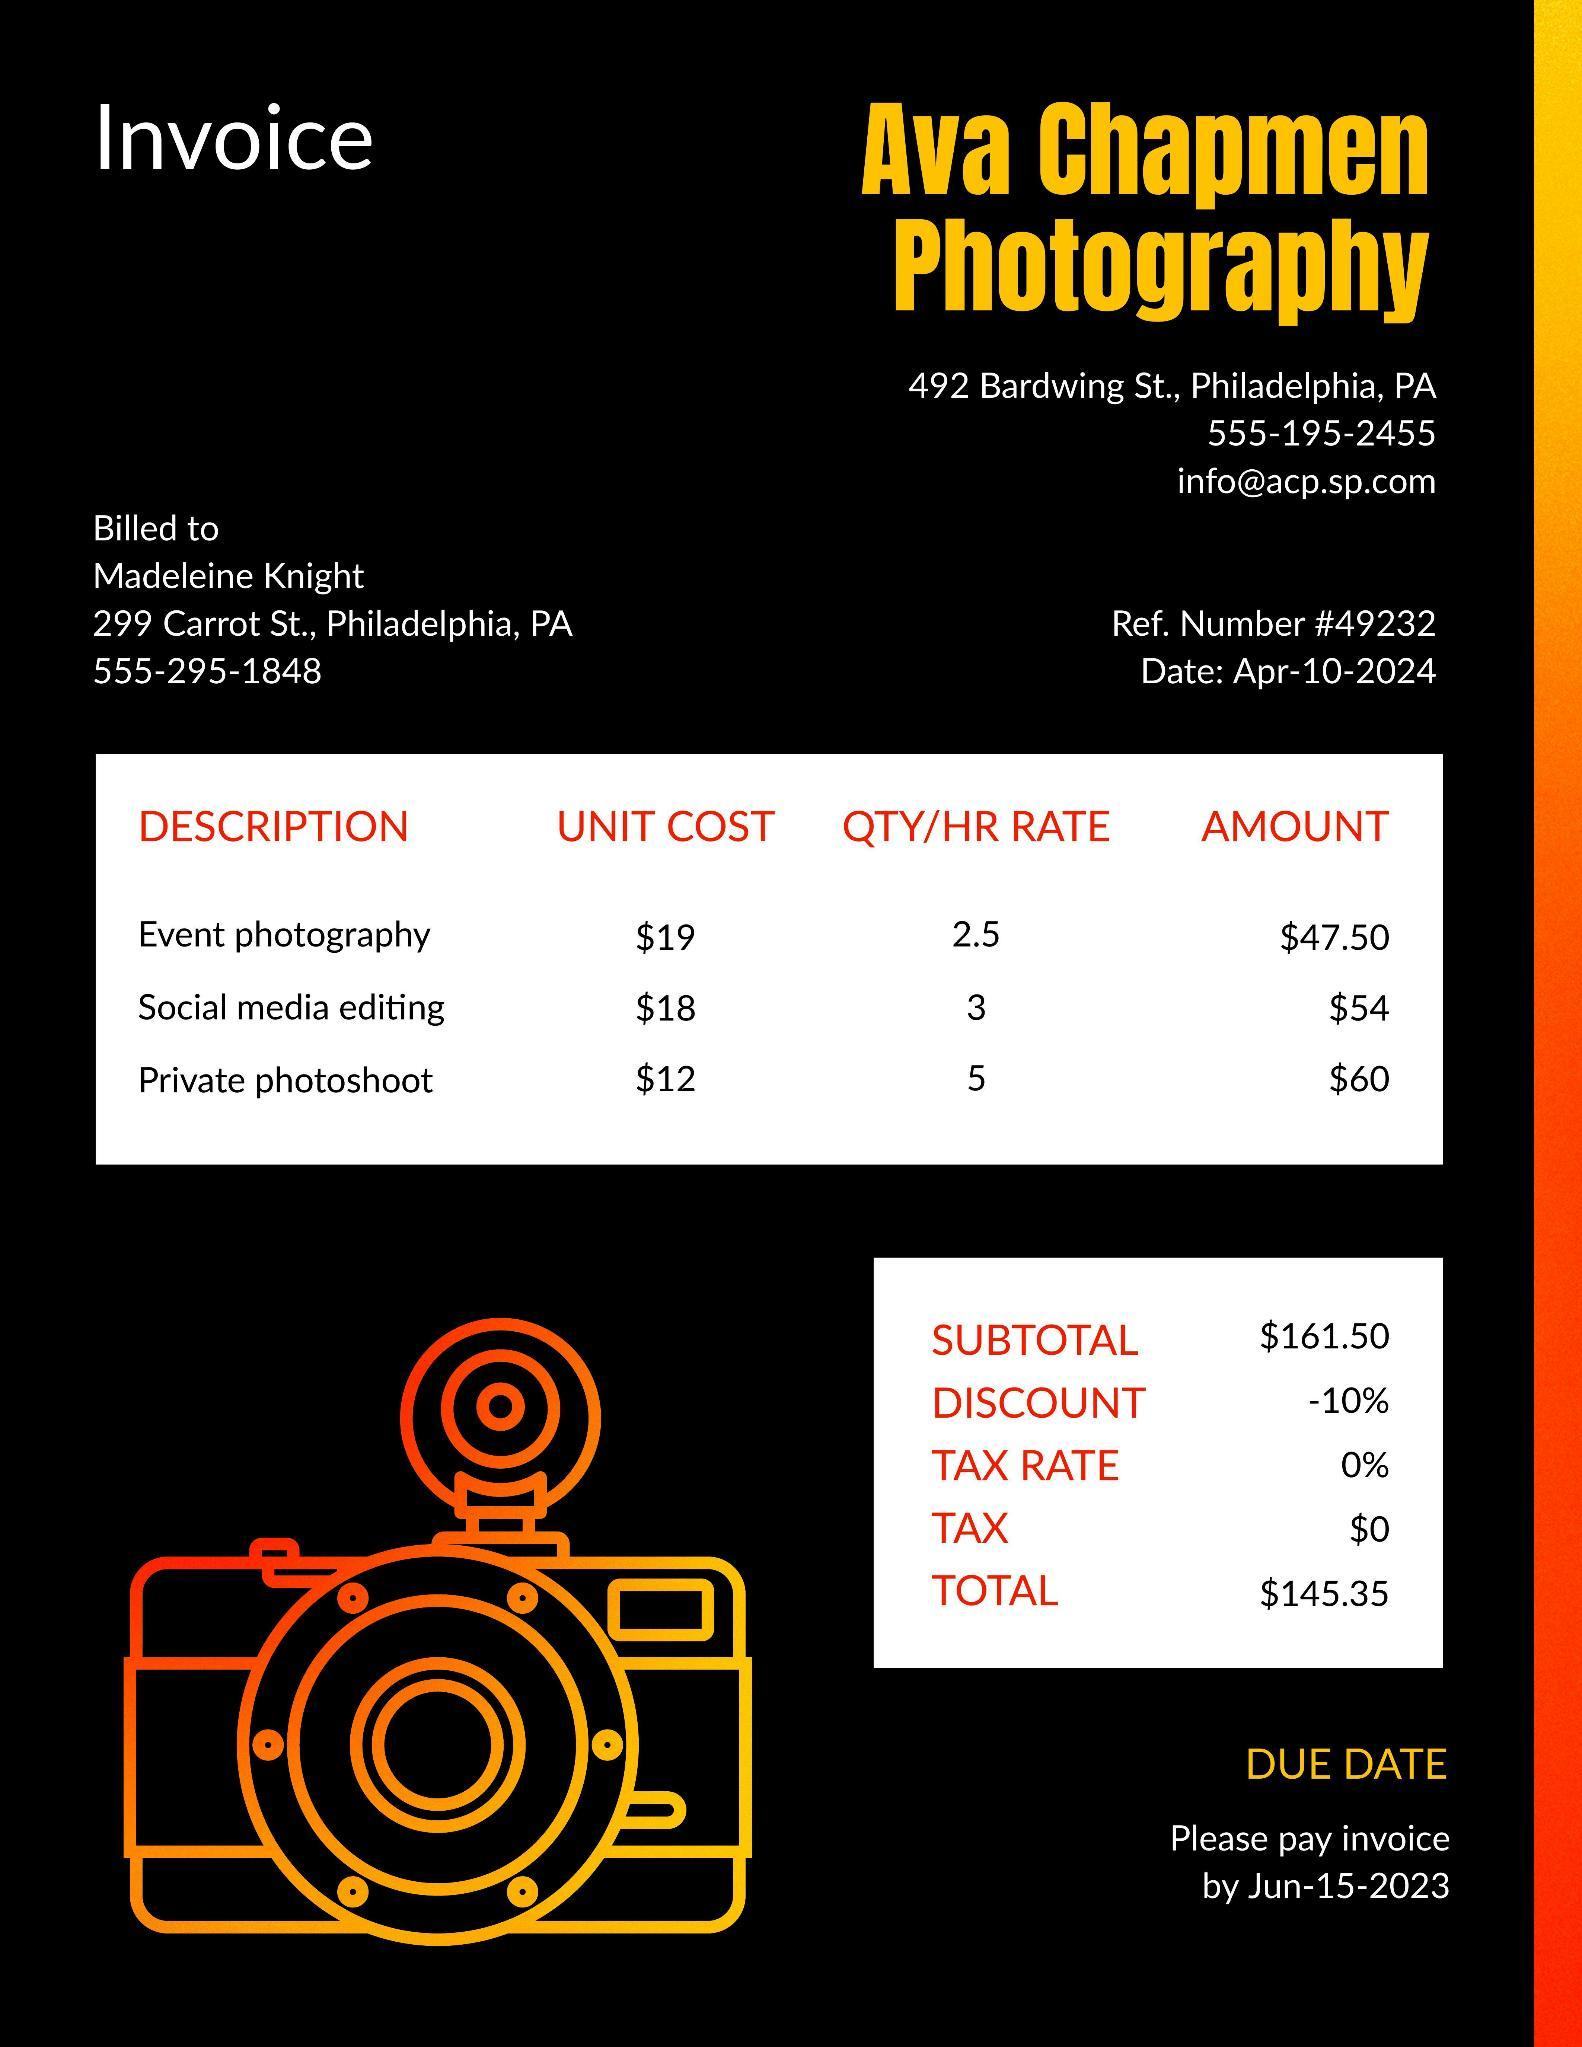ROI: (115, 776, 1432, 1127), (917, 1289, 1431, 1650), (857, 85, 1441, 342), (50, 493, 613, 713), (864, 362, 1451, 520), (1177, 1721, 1479, 1931), (1088, 587, 1459, 714), (73, 76, 392, 209)
